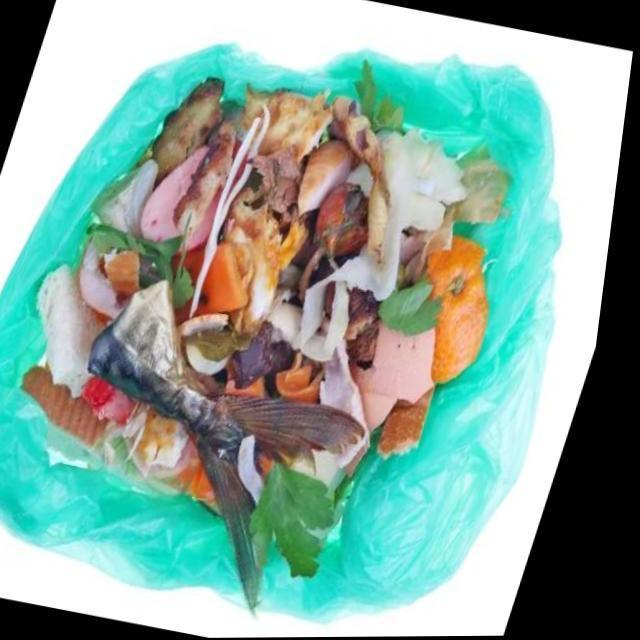Garbage: (39, 63, 520, 629)
